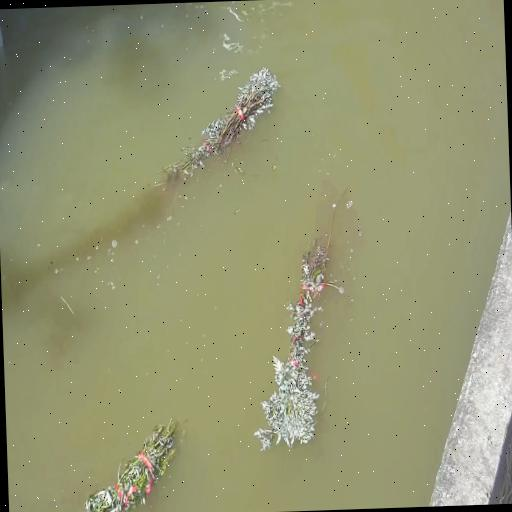twig: (244, 188, 358, 451), (150, 62, 286, 188), (77, 415, 183, 512)
